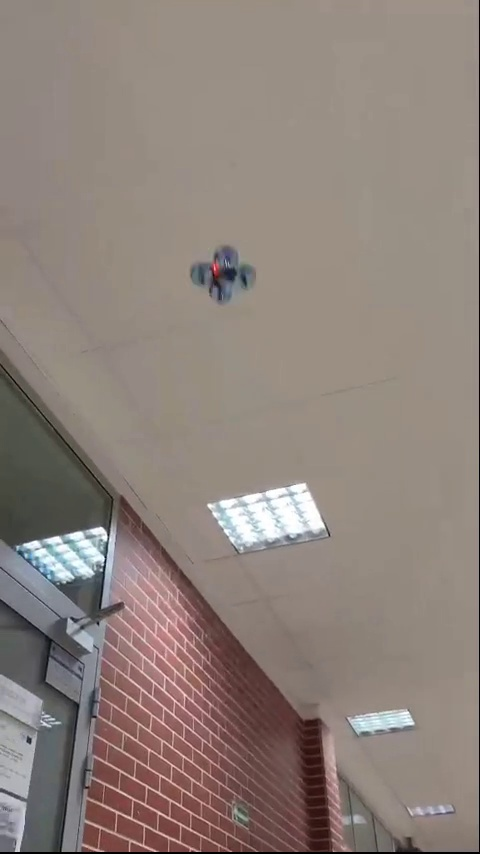drone: (192, 244, 251, 303)
